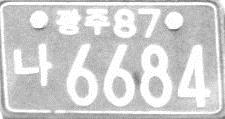4: (178, 44, 213, 109)
6: (100, 41, 135, 107), (65, 41, 98, 106)
7: (136, 6, 162, 40)
8: (139, 42, 174, 110), (111, 7, 137, 39)
광주_O: (55, 7, 111, 36)
나: (12, 42, 53, 87)
